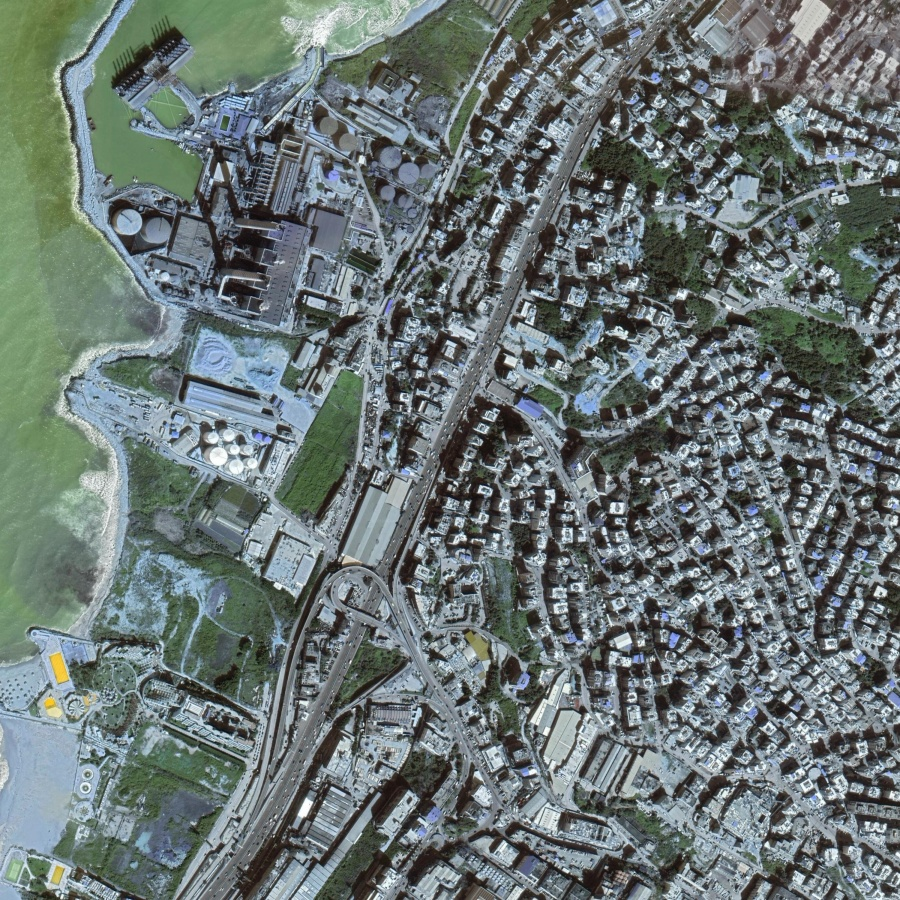PowerPlant: (100, 41, 445, 472)
